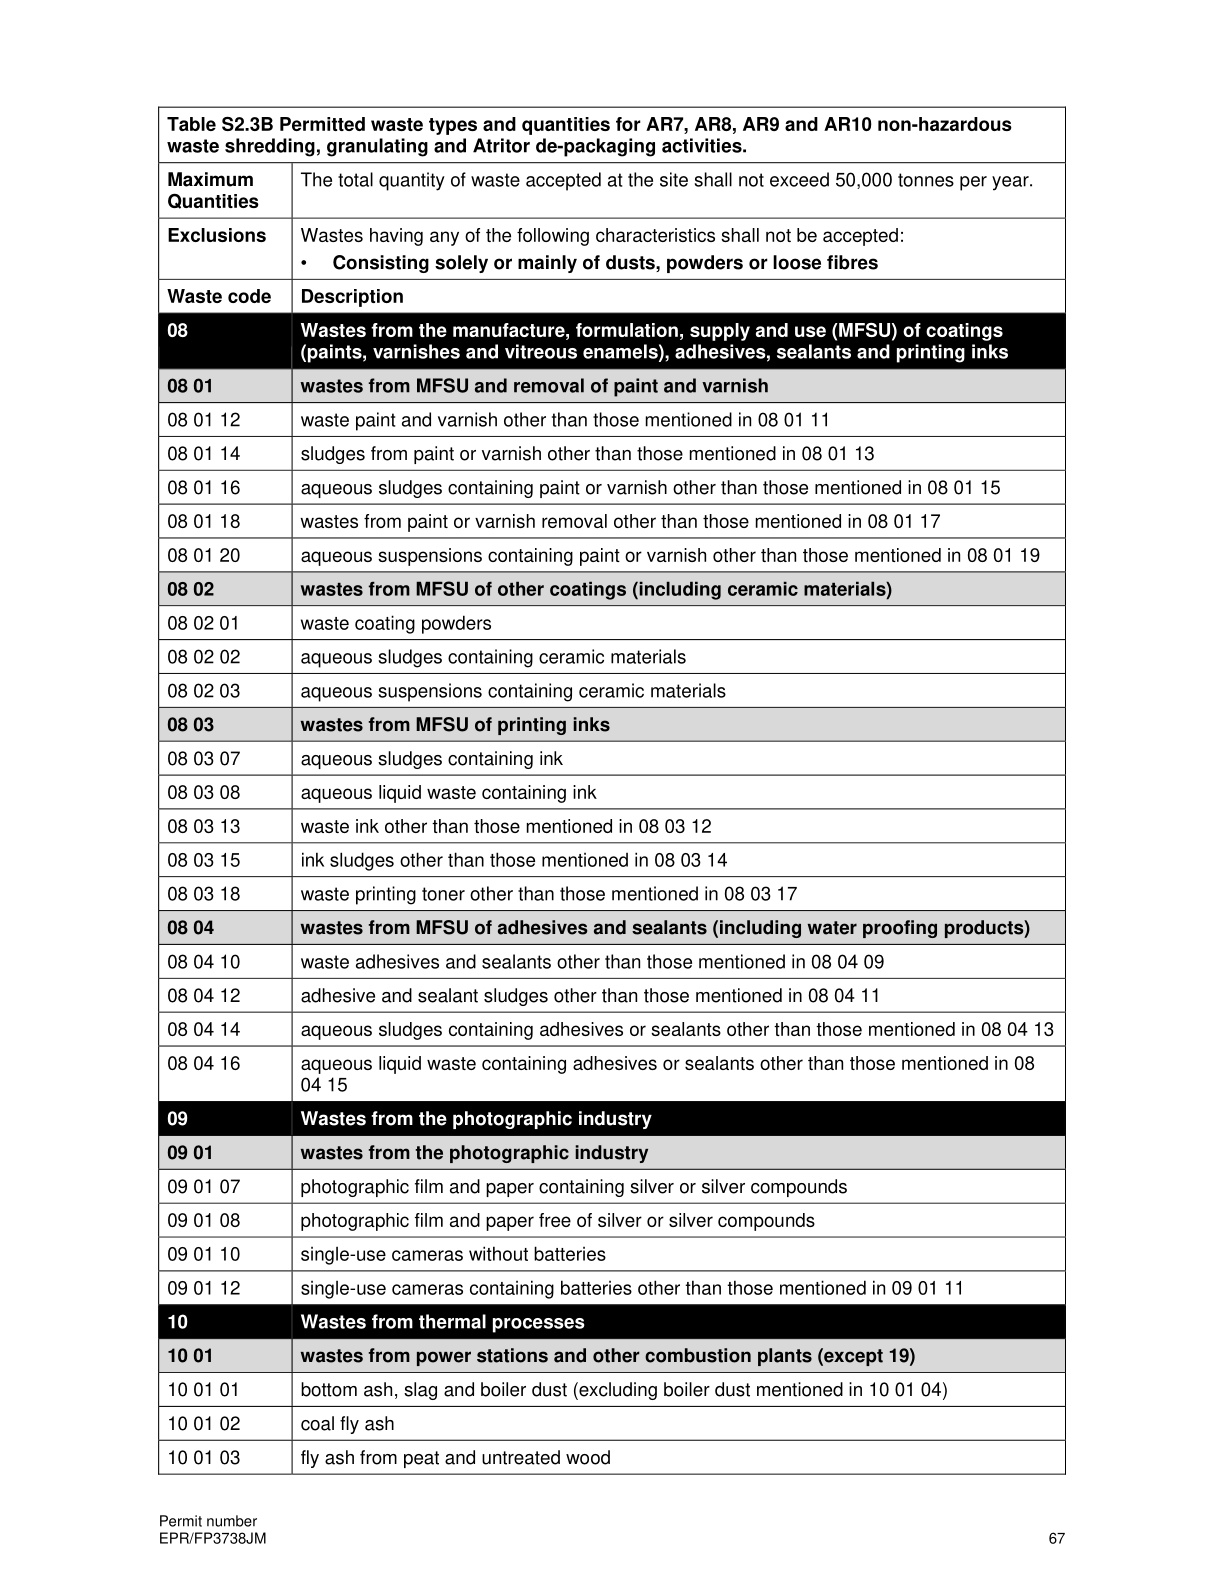merged_cells: (157, 105, 1067, 1476)
